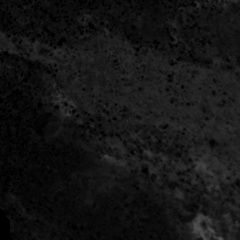Vegetation: (102, 137, 236, 189), (53, 93, 78, 121), (193, 215, 214, 240)
